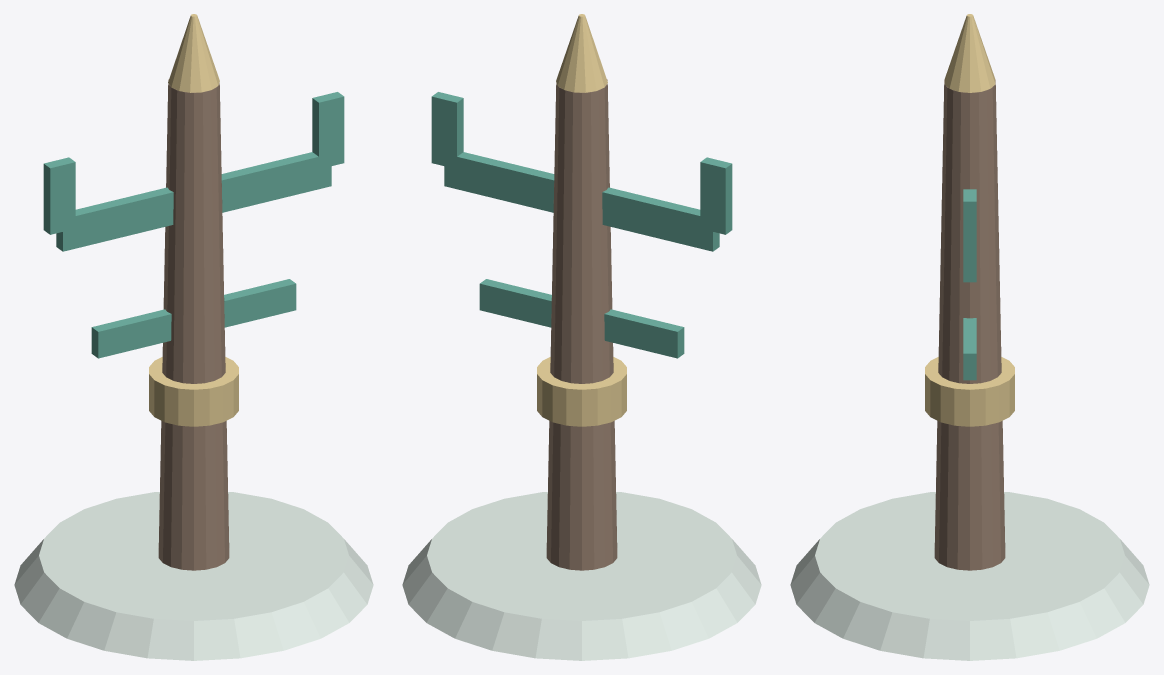
The model's file is tkoor.glb.
3 renders of one model, left to right at view 1: azimuth 30°, elevation 25°; view 2: azimuth 150°, elevation 25°; view 3: azimuth 270°, elevation 25°, orthographic.
Parts seen in each view (by area): view 1: ArtifactRoot; view 2: ArtifactRoot; view 3: ArtifactRoot.
Boxes of the visible parts, x1,y1,x2,y2 form: ArtifactRoot: (14, 14, 373, 660); ArtifactRoot: (402, 14, 761, 660); ArtifactRoot: (790, 14, 1149, 660).
Bounding box in the file's own units: 2.2 × 3.85 × 2.2.
